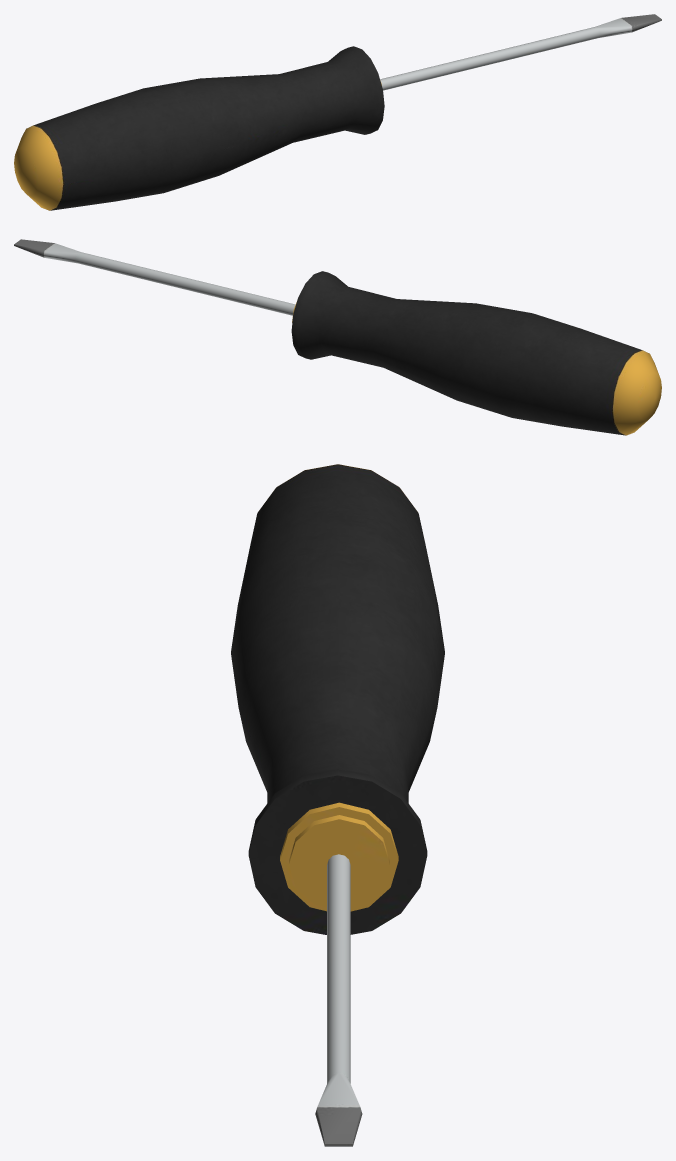
Rendered from tool_turn_screw_02.glb.
3 renders of one model, top to bottom at view 1: azimuth 30°, elevation 25°; view 2: azimuth 150°, elevation 25°; view 3: azimuth 270°, elevation 25°, orthographic. The views are drawn at different scales.
Parts seen in each view (by area): view 1: tool_turn_screw_02; view 2: tool_turn_screw_02; view 3: tool_turn_screw_02.
Boxes of the visible parts, x1,y1,x2,y2 form: tool_turn_screw_02: (14,14,661,210); tool_turn_screw_02: (14,239,661,435); tool_turn_screw_02: (231,464,444,1146).
Bounding box in the file's own units: 0.2326 × 0.0338 × 0.0338.
1 material, 1 textured.
